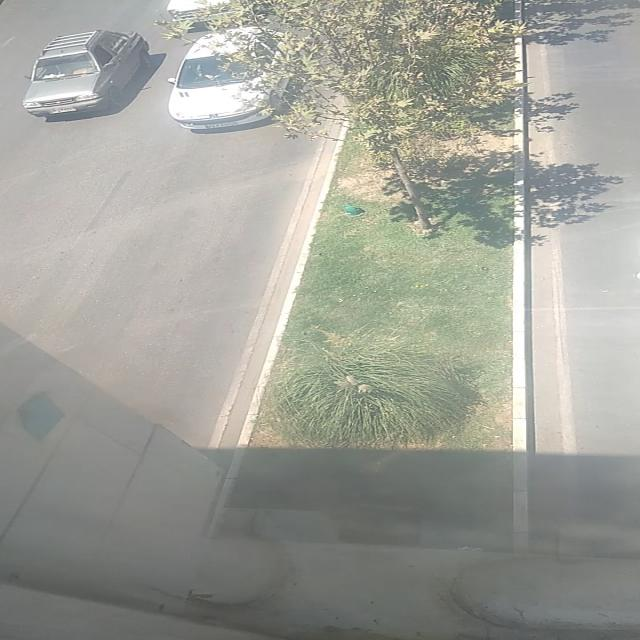car: (170, 28, 308, 132), (24, 30, 156, 121)
